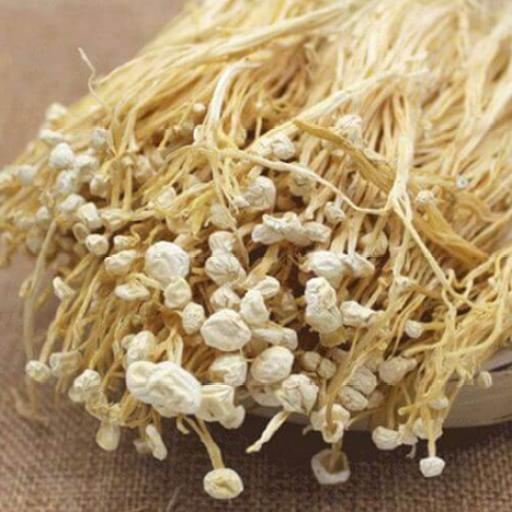Enoki Mushroom: (2, 1, 512, 505)
